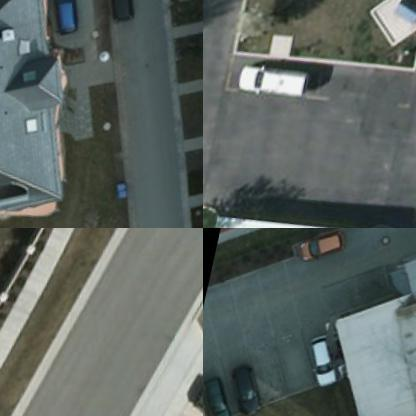car: (304, 329, 350, 394), (228, 359, 276, 415), (242, 63, 316, 96), (298, 228, 349, 273), (203, 367, 247, 415), (52, 0, 89, 34), (111, 0, 144, 27)
